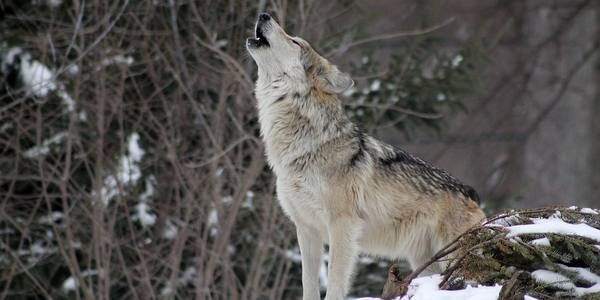wolf: (240, 20, 483, 300)
